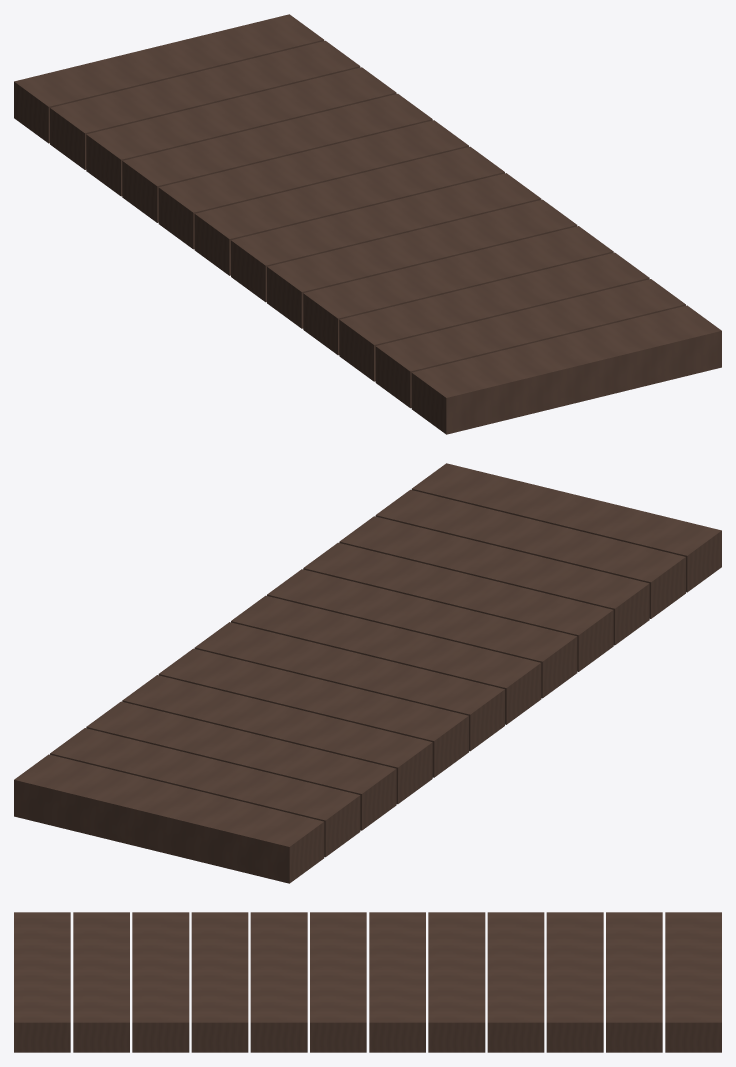
The model's file is walkway-narrow.glb.
3 renders of one model, top to bottom at view 1: azimuth 30°, elevation 25°; view 2: azimuth 150°, elevation 25°; view 3: azimuth 270°, elevation 25°, orthographic. The views are drawn at different scales.
Parts seen in each view (by area): view 1: walkway-narrow_wood; view 2: walkway-narrow_wood; view 3: walkway-narrow_wood.
Part boxes in pixels (x1,y1,x2,y2): walkway-narrow_wood: (14, 14, 721, 434); walkway-narrow_wood: (14, 463, 721, 883); walkway-narrow_wood: (14, 912, 721, 1052).
Bounding box in the file's own units: 1.1 × 0.14 × 2.99.
Materials: 1 (1 with a texture image).
